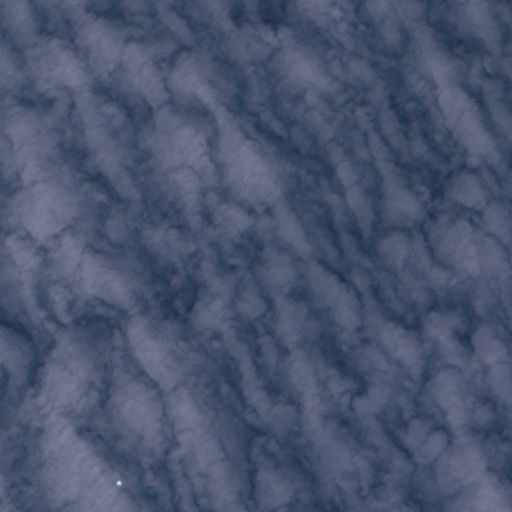Iceberg: (116, 481, 121, 485)
